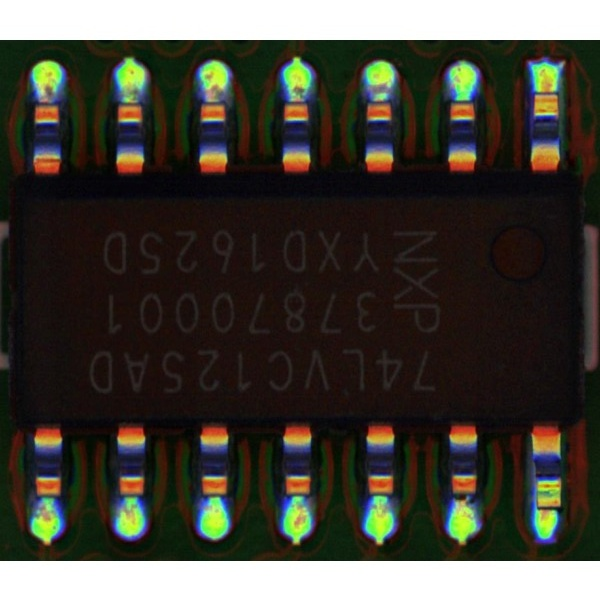Bad_qiaojiao: (540, 78, 556, 110), (540, 491, 553, 521)
